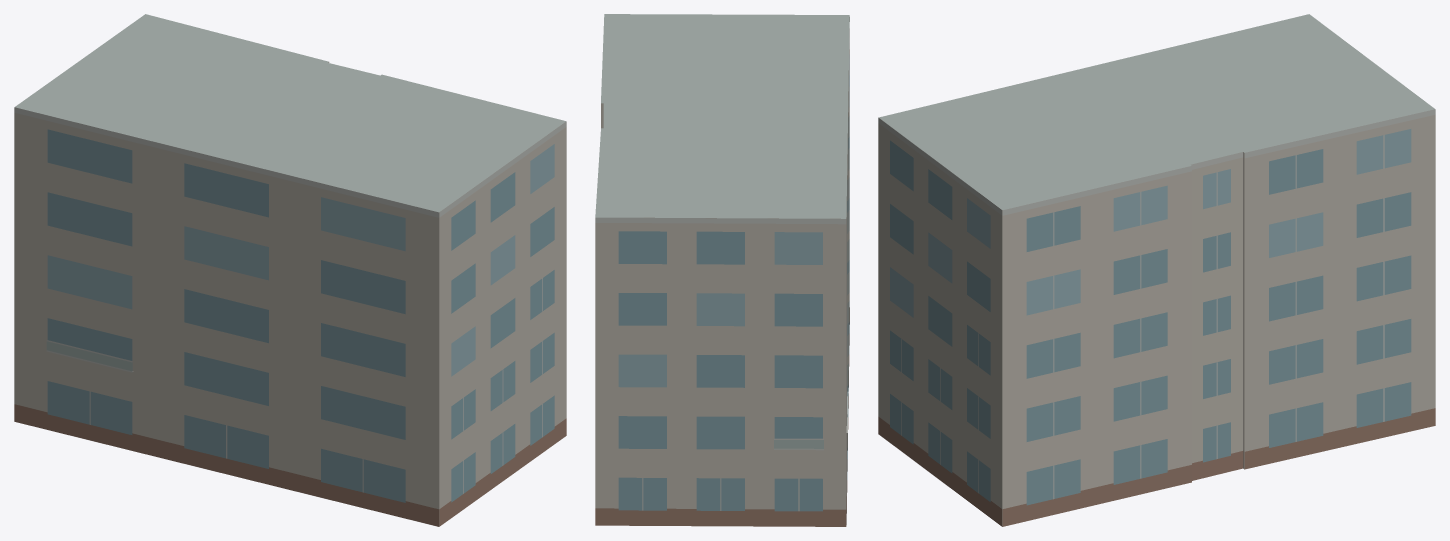
File: survey-upis-32704711.glb
3 renders of one model, left to right at view 1: azimuth 30°, elevation 25°; view 2: azimuth 150°, elevation 25°; view 3: azimuth 270°, elevation 25°, orthographic. The views are drawn at different scales.
Visible parts, largest first — view 1: survey-upis-32704711.tmp; view 2: survey-upis-32704711.tmp; view 3: survey-upis-32704711.tmp.
Boxes of the visible parts, x1,y1,x2,y2 form: survey-upis-32704711.tmp: (14,14,566,526); survey-upis-32704711.tmp: (595,14,849,526); survey-upis-32704711.tmp: (878,14,1435,526).
Bounding box in the file's own units: 18.6 × 13.98 × 22.3.
